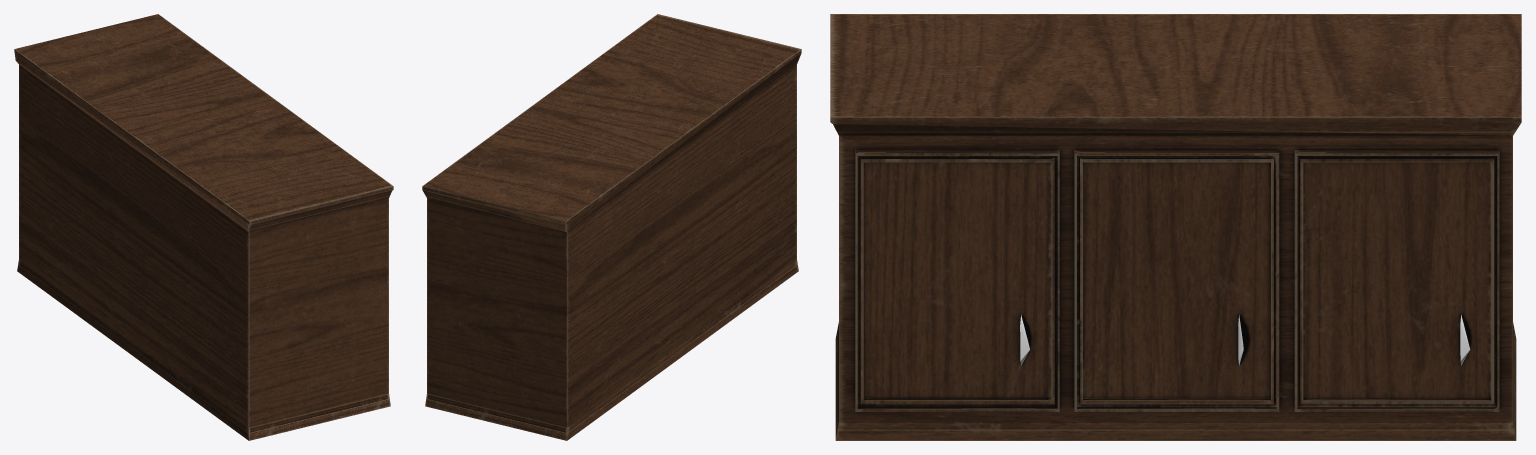
Rendered from cobord.fbx.
3 views of the same model, side by side, from view 1: azimuth 30°, elevation 25°; view 2: azimuth 150°, elevation 25°; view 3: azimuth 270°, elevation 25° (orthographic). The views are drawn at different scales.
Visible parts, largest first — view 1: Handles1; view 2: Handles1; view 3: Handles1.
Boxes of the visible parts, box(x1,y1,x2,y2) form: Handles1: box(14, 14, 393, 440); Handles1: box(422, 14, 801, 440); Handles1: box(830, 14, 1521, 440).
Bounding box in the file's own units: 2.11 × 3.01 × 5.8.
3 materials, 2 textured.
